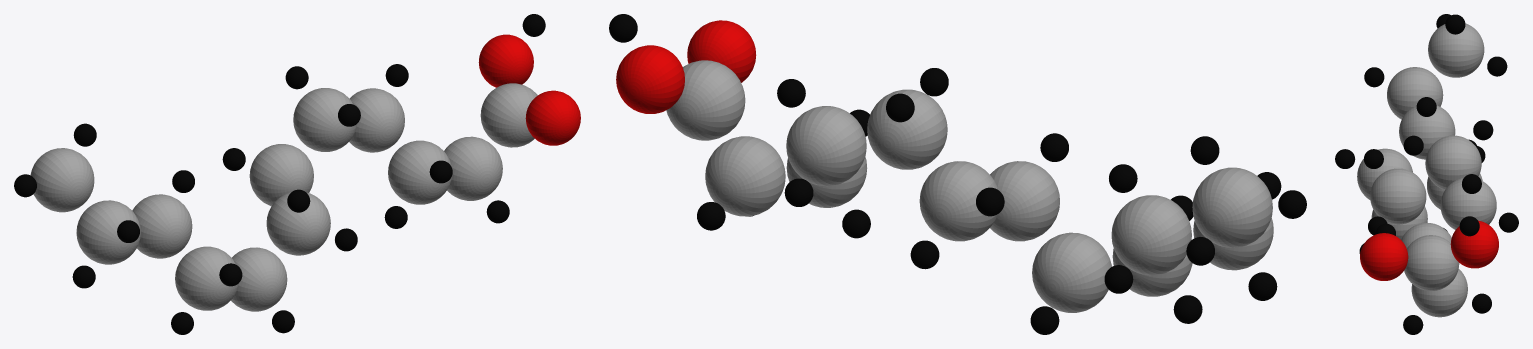
The model's file is Myristic Acid.glb.
3 renders of one model, left to right at view 1: azimuth 30°, elevation 25°; view 2: azimuth 150°, elevation 25°; view 3: azimuth 270°, elevation 25°, orthographic. The views are drawn at different scales.
Parts seen in each view (by area): view 1: world; view 2: world; view 3: world.
Boxes of the visible parts, x1,y1,x2,y2 form: world: (14,14,580,334); world: (609,14,1306,334); world: (1335,14,1518,334).
Size of the model in its own units: 13.6 by 4.98 by 4.57.
